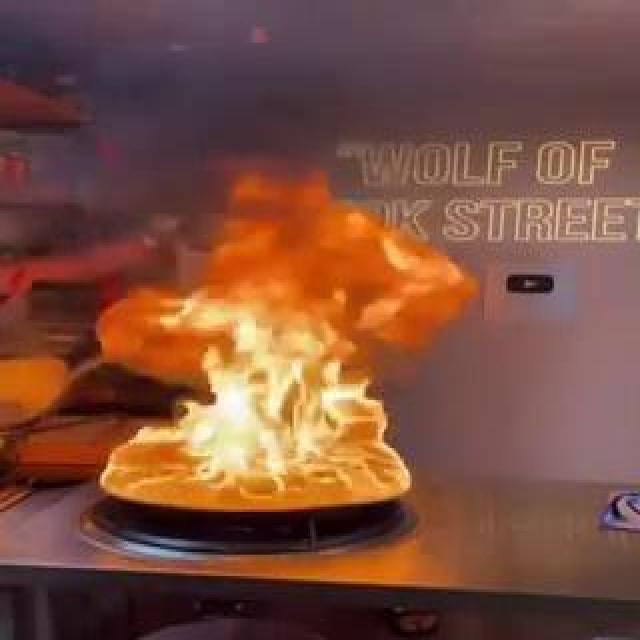Fire: (67, 173, 425, 518)
